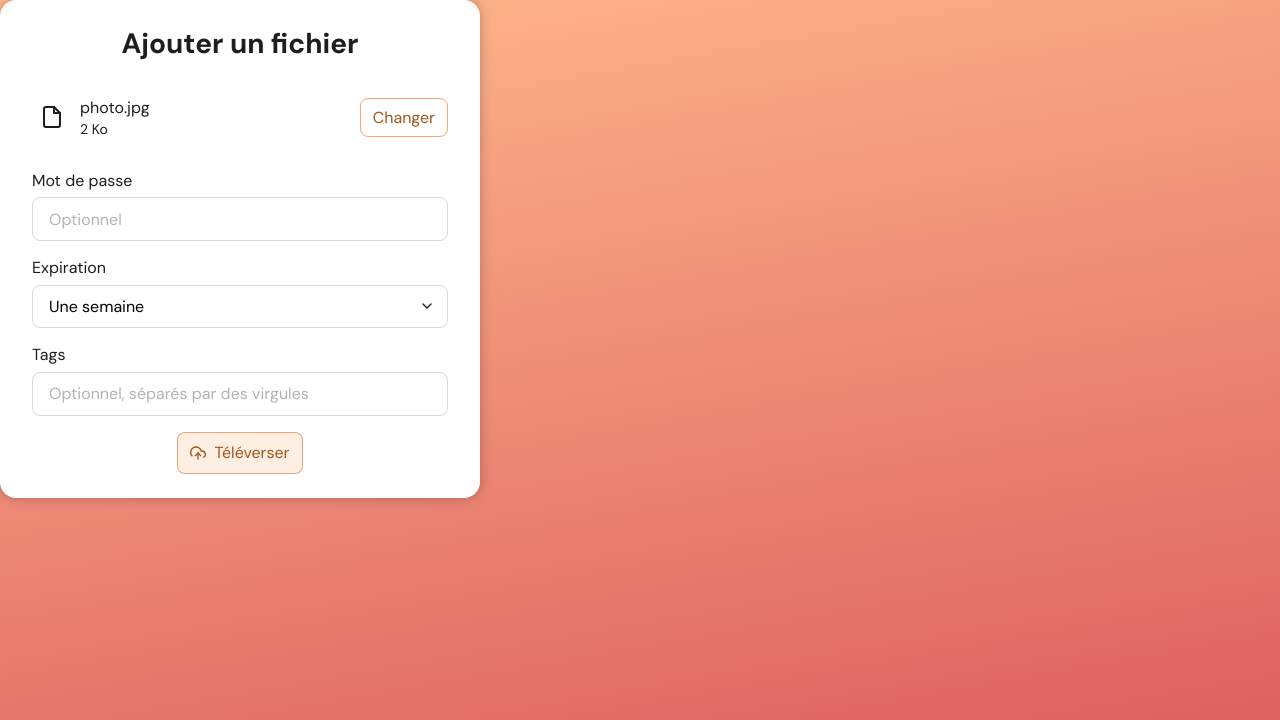
Test case: Carte « Ajouter un fichier » › refuse un mot de passe trop court et des tags en double
The image size is (1280, 720).
In the password field labelled "Mot de passe": (240, 219) [32,197,448,241], type "abc"
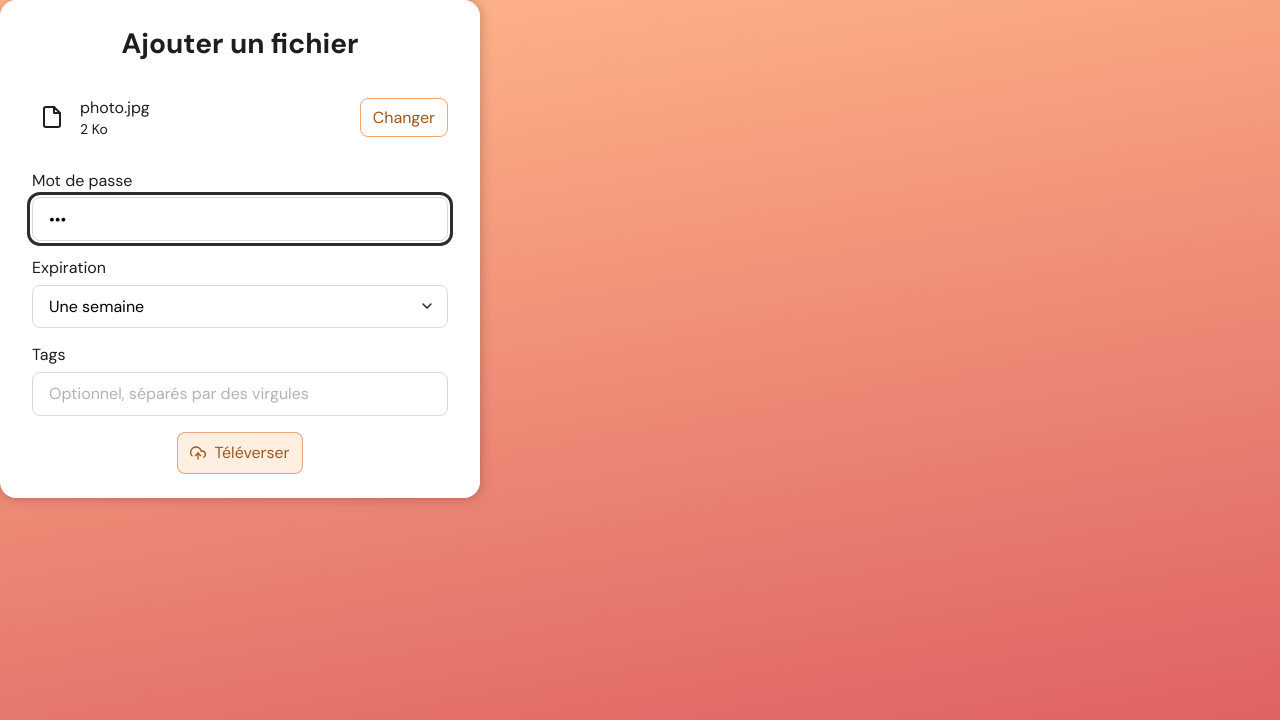
In the field labelled "Tags": (240, 394) [32,372,448,416], type "photo, photo"
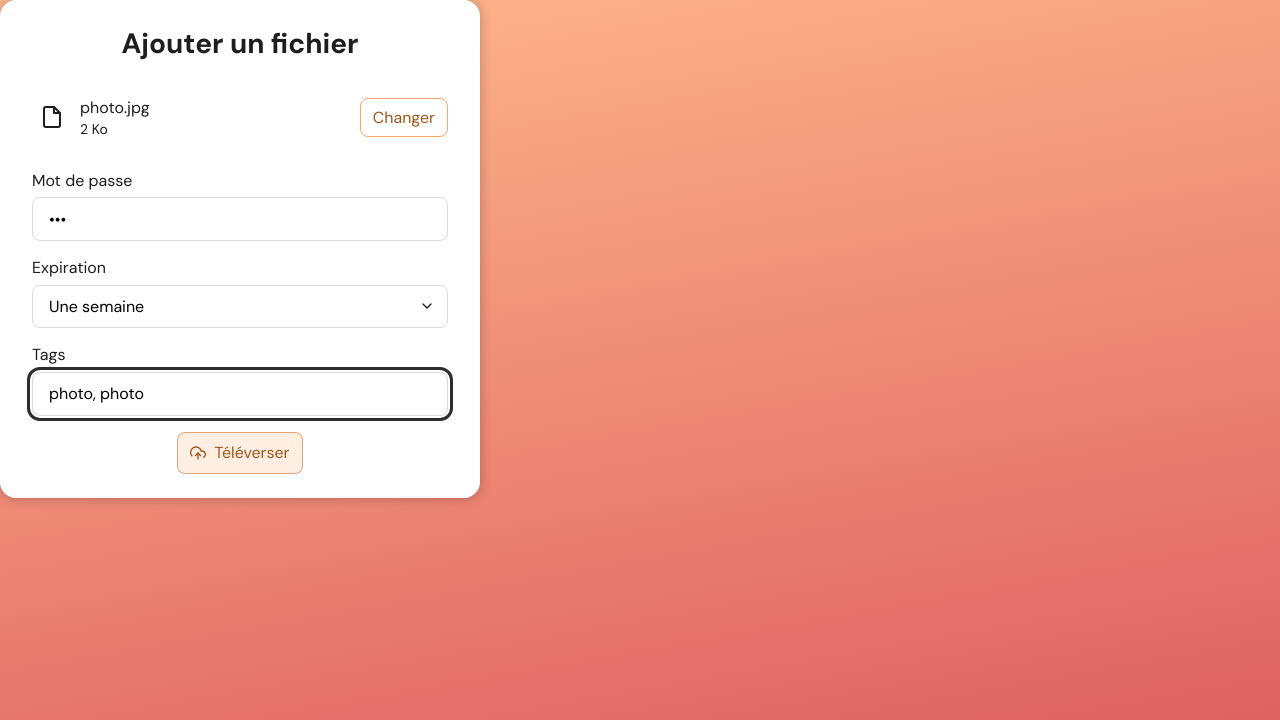
Click the button "Téléverser": (240, 452) [178,432,302,474]
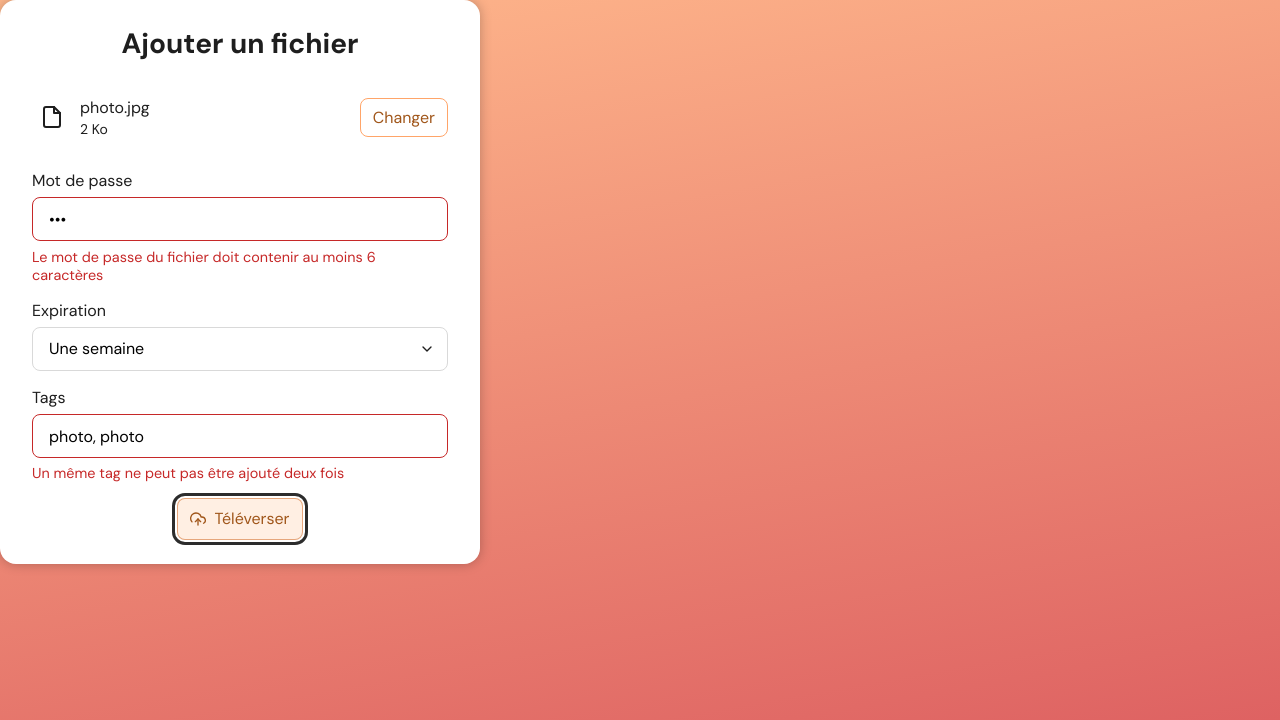
Now the text "Le mot de passe du fichier doit contenir au moins 6 caractères" is shown, box [32,248,376,284]
Now the text "Un même tag ne peut pas être ajouté deux fois" is shown, box [32,464,344,482]
Le message disparaît dès que le champ est modifié
In the field labelled "Tags": (240, 436) [32,414,448,458], type "s"
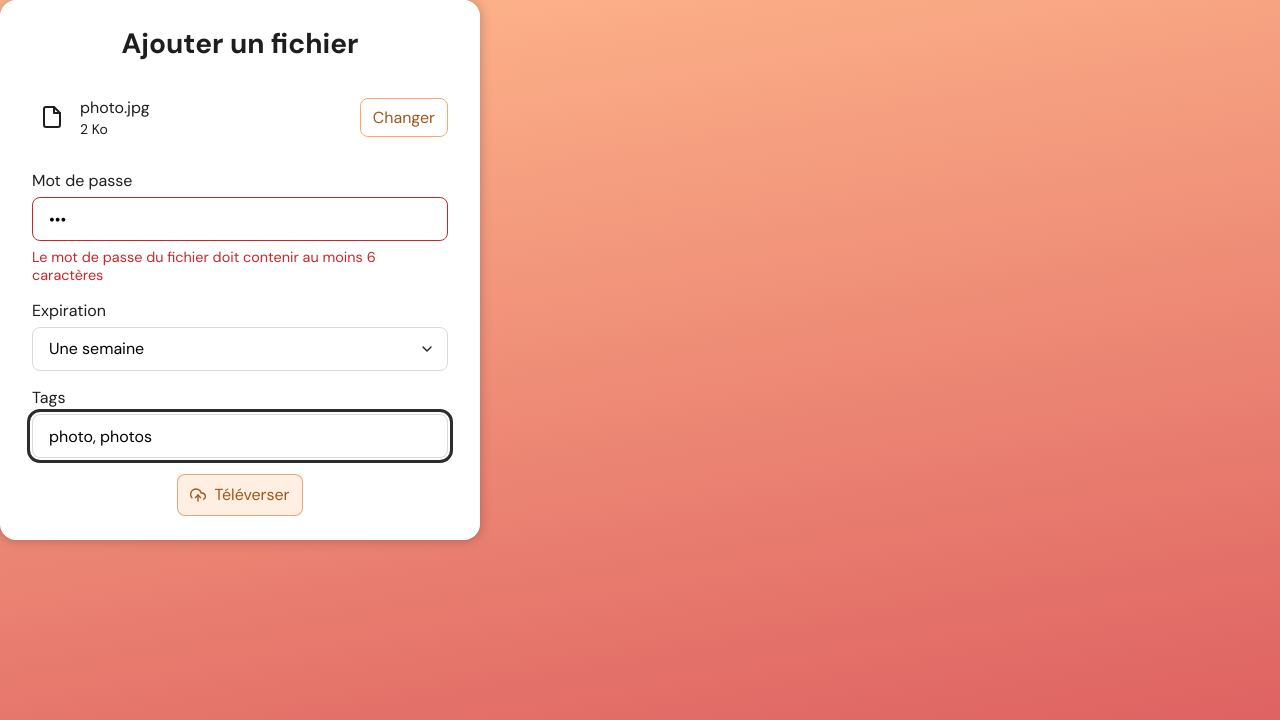
Now the text "Un même tag ne peut pas être ajouté deux fois" is gone
